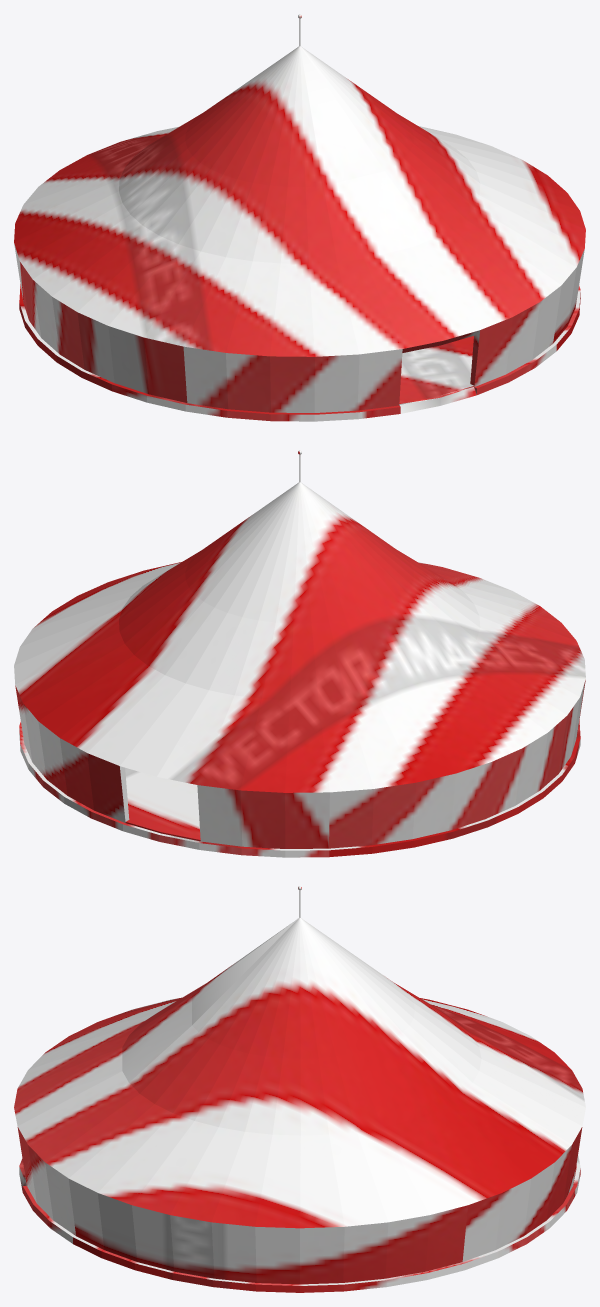
The picture shows the model from 3 angles, top to bottom: view 1: azimuth 30°, elevation 25°; view 2: azimuth 150°, elevation 25°; view 3: azimuth 270°, elevation 25°; orthographic projection.
Parts seen in each view (by area): view 1: Circus Tent; view 2: Circus Tent; view 3: Circus Tent.
Part boxes in pixels (x1=…): Circus Tent: x1=14, y1=14, x2=585, y2=421; Circus Tent: x1=14, y1=450, x2=585, y2=857; Circus Tent: x1=14, y1=886, x2=585, y2=1292.
Size of the model in its own units: 31.01 by 17.24 by 31.01.
1 material, 1 textured.
